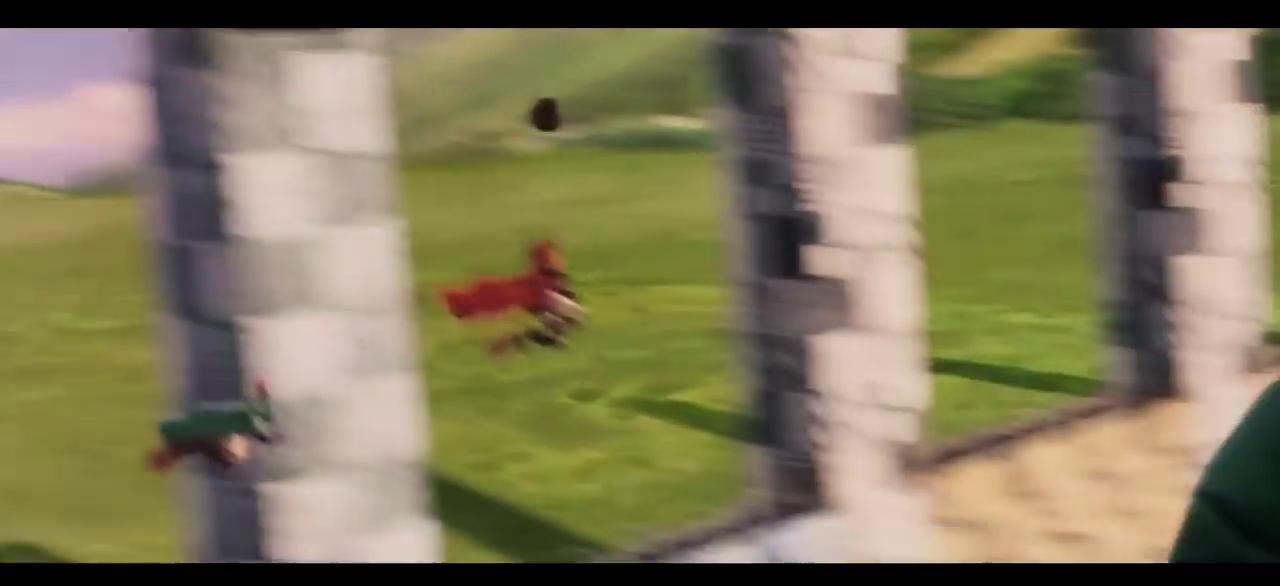quaffle: (528, 96, 563, 133)
